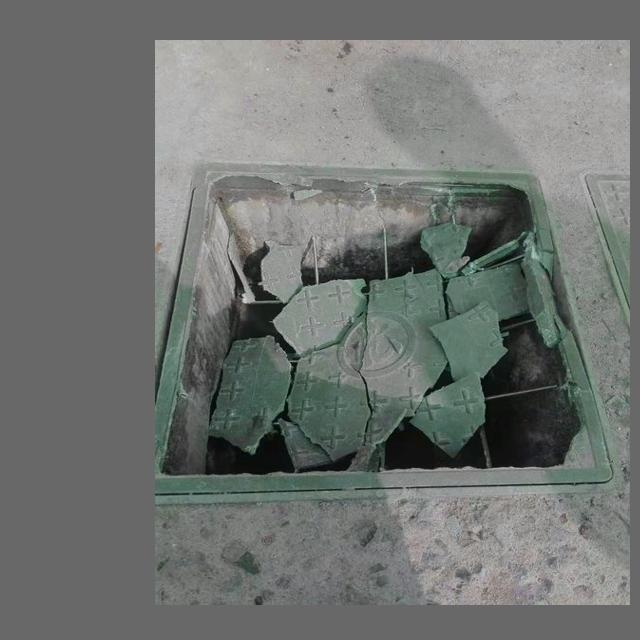broke: (168, 167, 593, 507)
